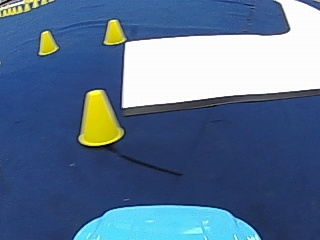cone: (77, 88, 122, 146), (102, 18, 126, 45), (37, 30, 58, 55)
